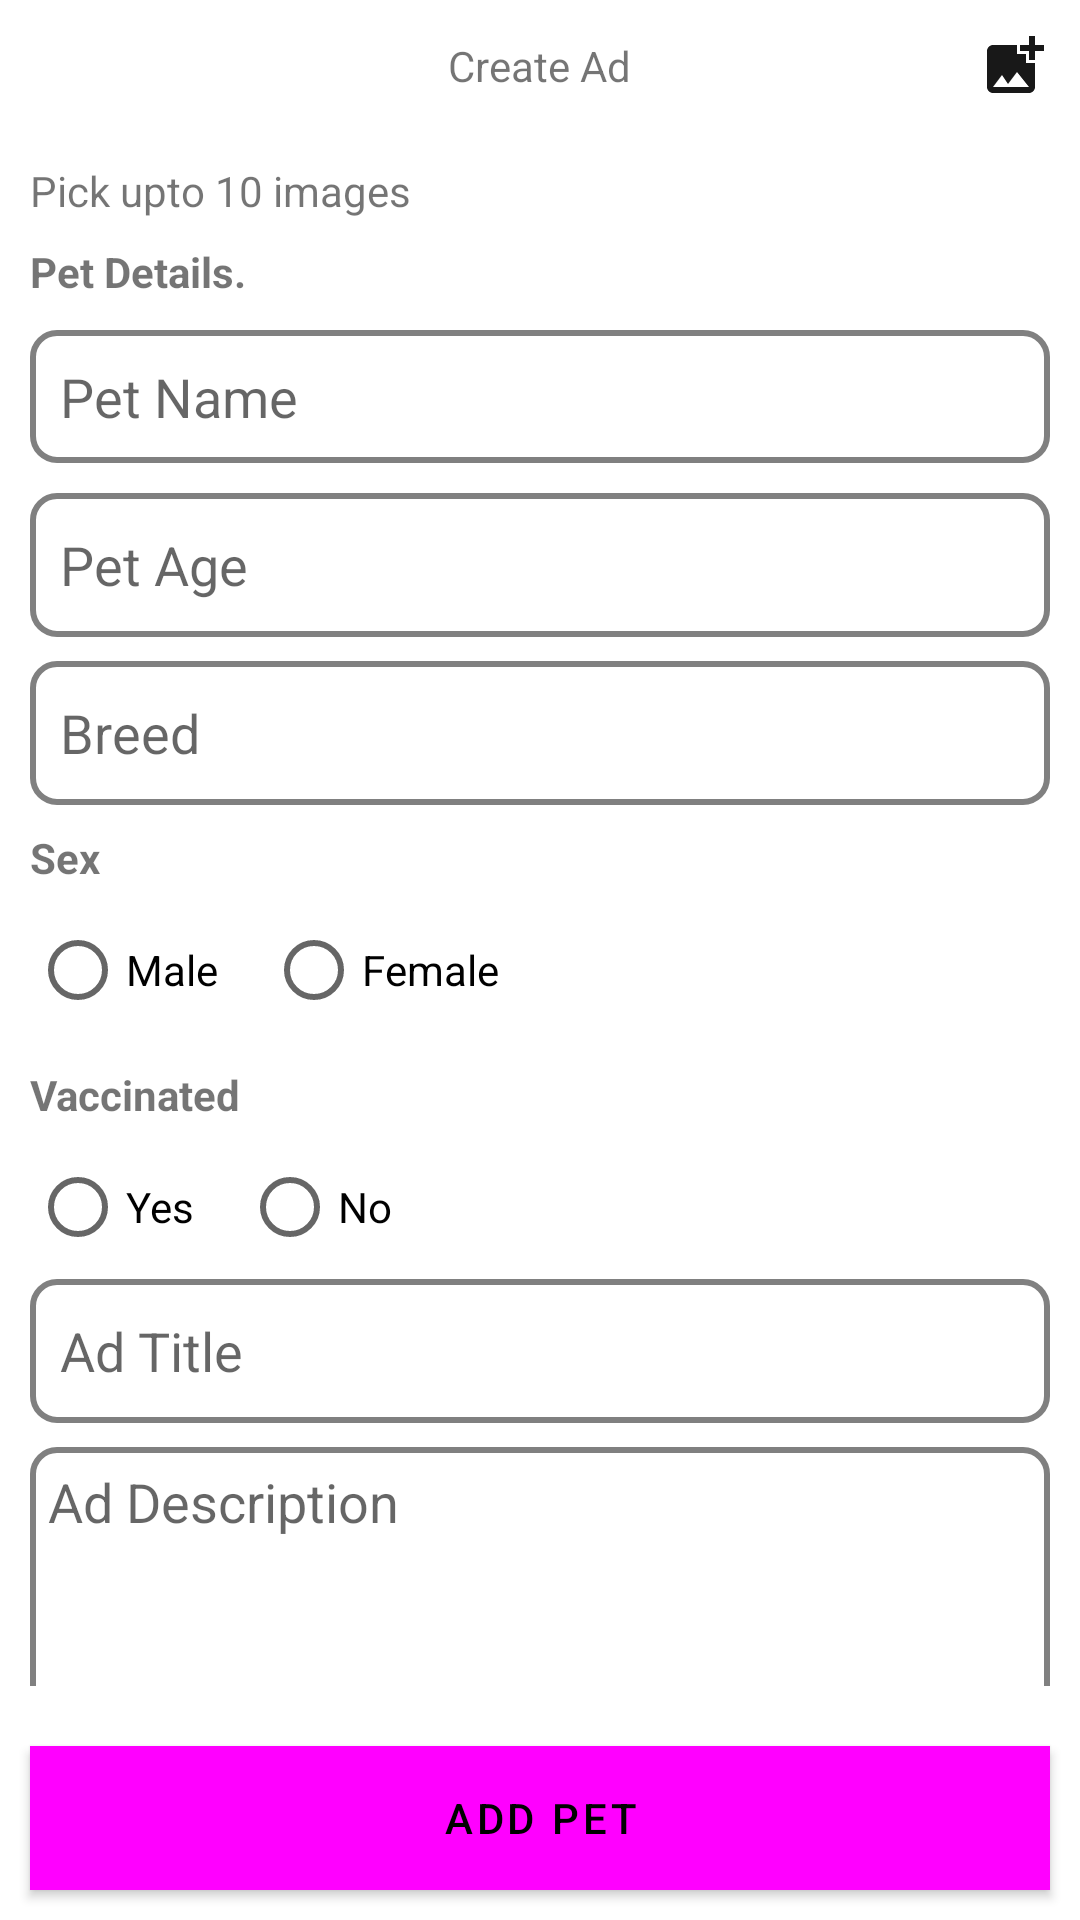

Locate icon controls on the screen. Image size 1080 x 1920, boxes as (x1, y1, x2, y2).
add photo: (987, 36, 1044, 93)
